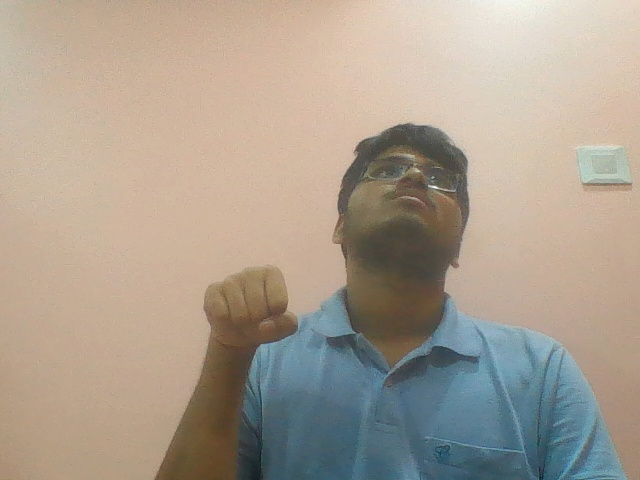yes: (187, 254, 335, 368)
